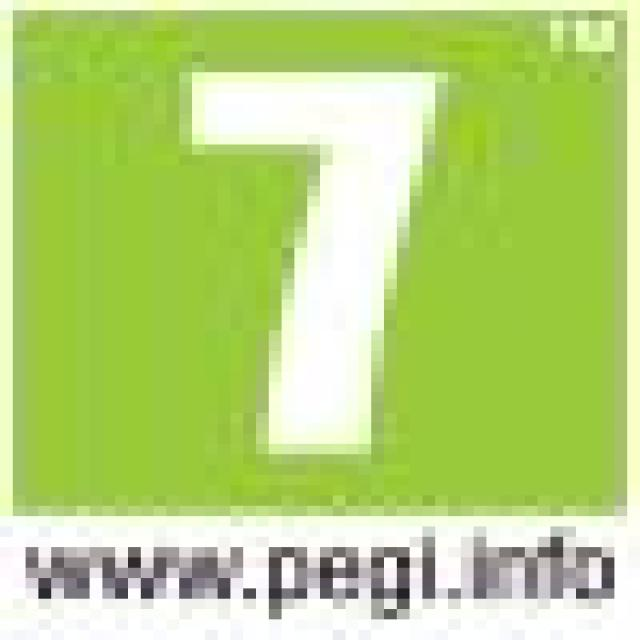Decorative Elements: (0, 0, 627, 516)
Testimonial Quotes: (13, 526, 614, 620)
